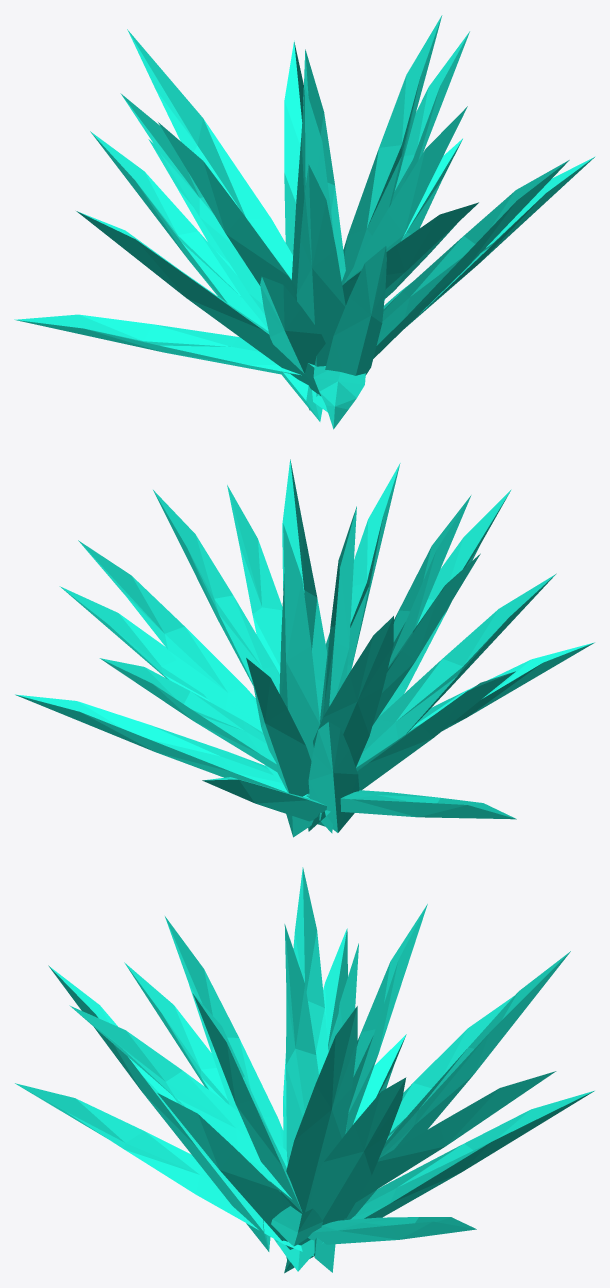
The model's file is Agave_LOD1.fbx.
3 views of the same model, one above another, from view 1: azimuth 30°, elevation 25°; view 2: azimuth 150°, elevation 25°; view 3: azimuth 270°, elevation 25° (orthographic). The views are drawn at different scales.
Visible parts, largest first — view 1: Agave_LOD1; view 2: Agave_LOD1; view 3: Agave_LOD1.
Part boxes in pixels (left/top/right/bottom): Agave_LOD1: left=14, top=15, right=595, bottom=429; Agave_LOD1: left=15, top=459, right=594, bottom=837; Agave_LOD1: left=15, top=867, right=594, bottom=1273.
Bounding box in the file's own units: 183 × 117 × 188.
